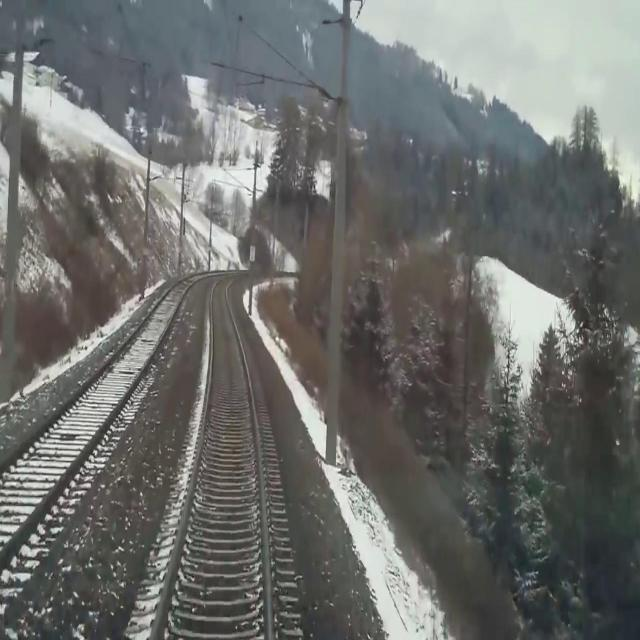rail-track: (0, 275, 202, 552), (155, 277, 266, 639)
